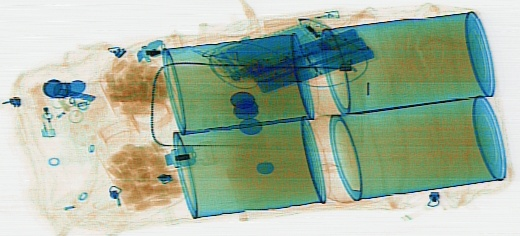lighter: (263, 8, 342, 30), (27, 82, 56, 136)
powerbank: (233, 25, 377, 91)
